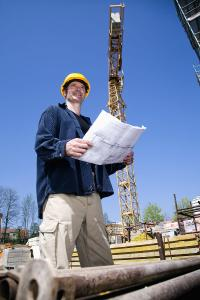hard-hat: (60, 72, 91, 97)
person: (34, 71, 134, 268)
